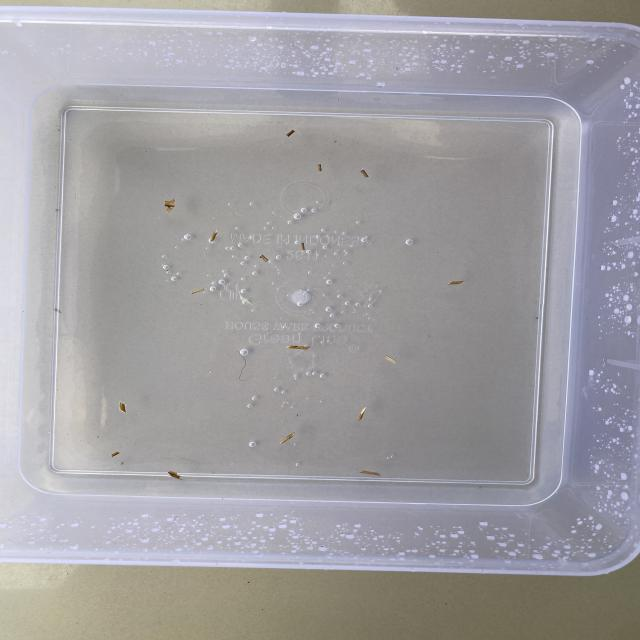Wereng: (280, 339, 320, 354), (275, 428, 299, 448), (357, 464, 385, 480), (115, 398, 134, 419), (354, 403, 370, 427), (186, 284, 211, 298), (378, 351, 401, 366), (206, 227, 223, 245), (163, 198, 180, 215), (441, 279, 472, 288), (254, 252, 274, 265), (280, 125, 298, 139), (310, 160, 329, 173), (165, 468, 182, 482), (356, 168, 374, 180), (107, 448, 125, 460), (298, 239, 312, 252)
